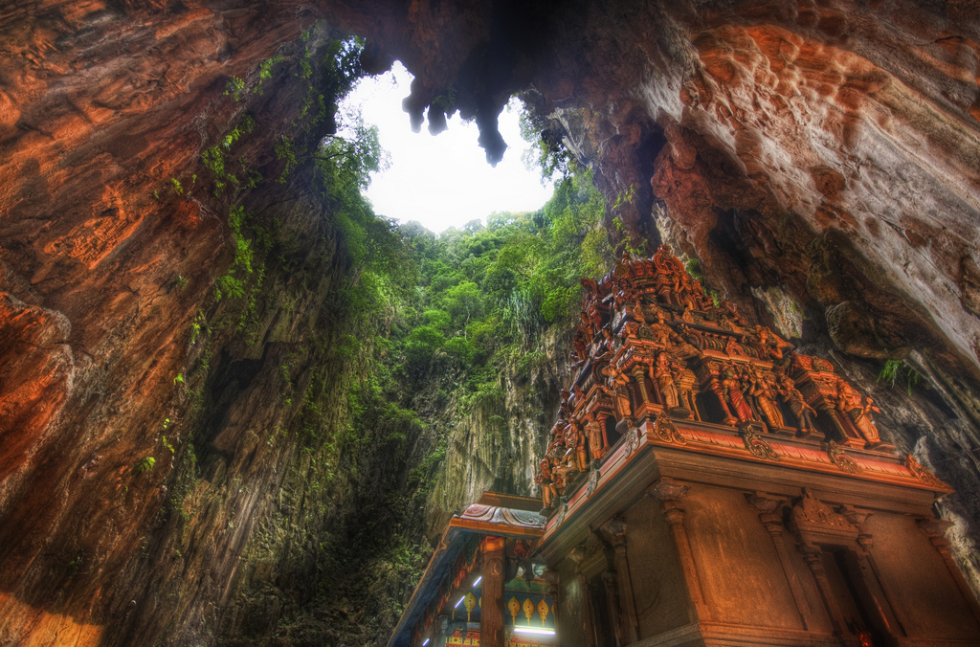Hindu Temple: (495, 231, 857, 627)
